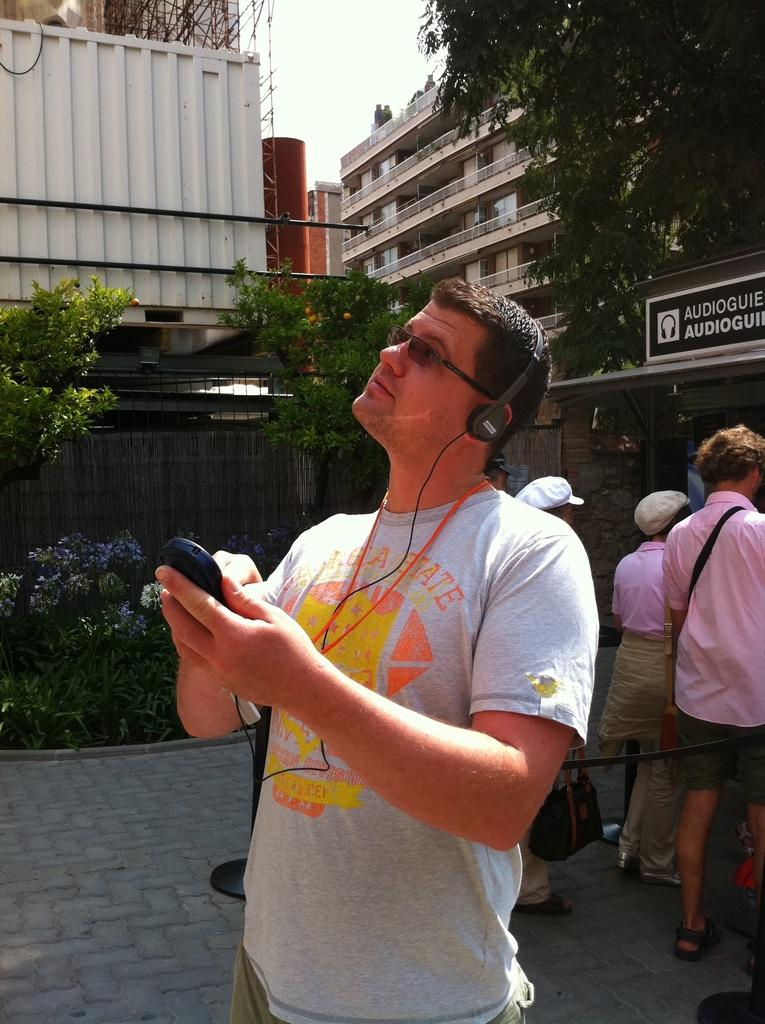Hat: (516, 475, 586, 510)
